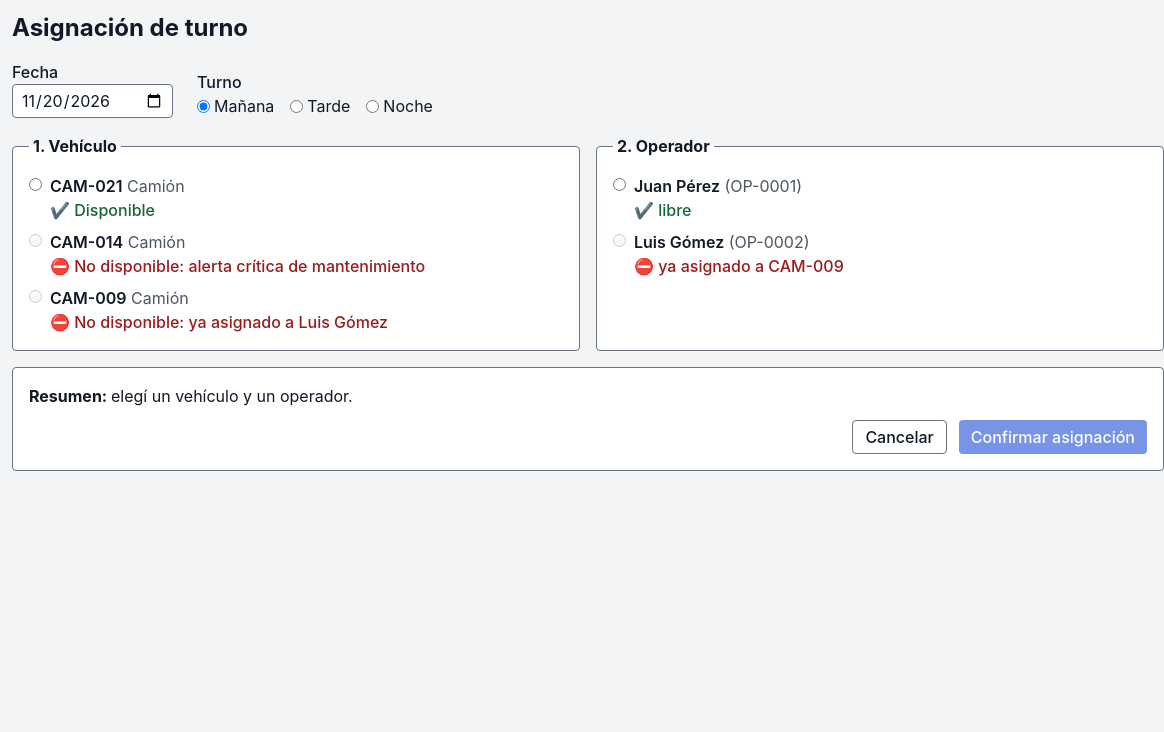
Test: ShiftsPage › con 403 al guardar avisa "Permisos insuficientes"
The image size is (1164, 732).
Click the radio button labelled "CAM-021 Camión✔ Disponible": {"x": 36, "y": 184} [29,178,42,191]
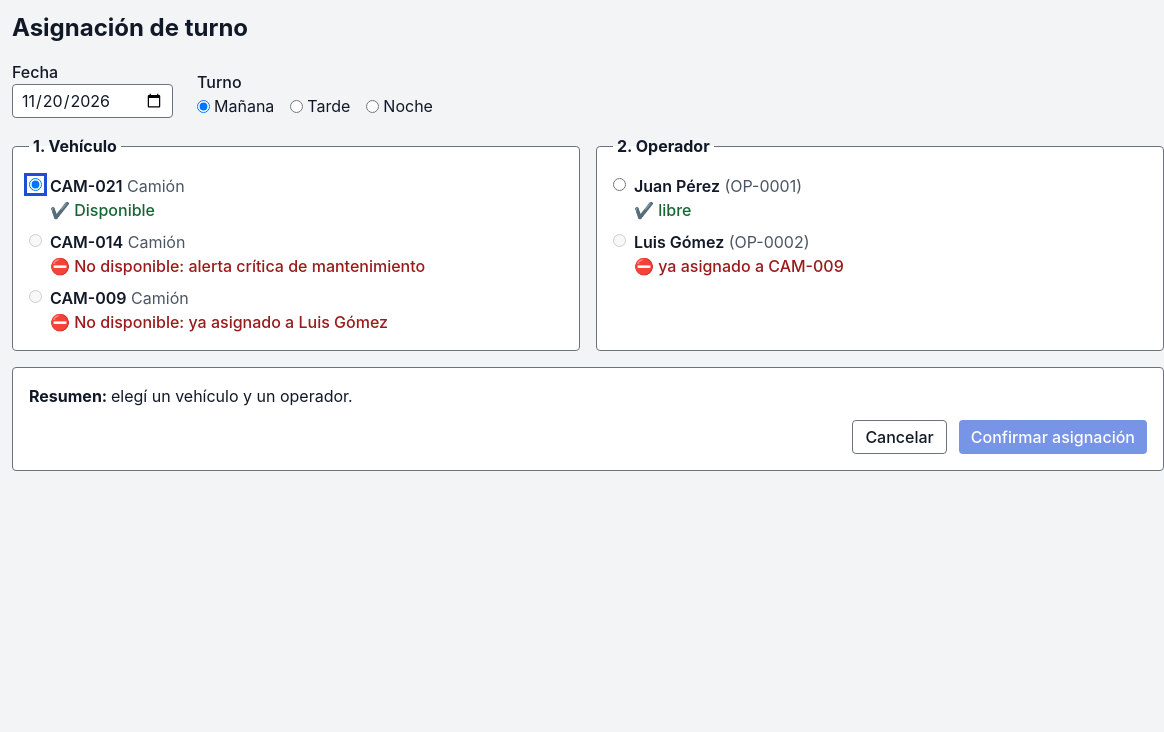
Click the radio button labelled "Juan Pérez (OP-0001)✔ libre": {"x": 620, "y": 184} [613,178,626,191]
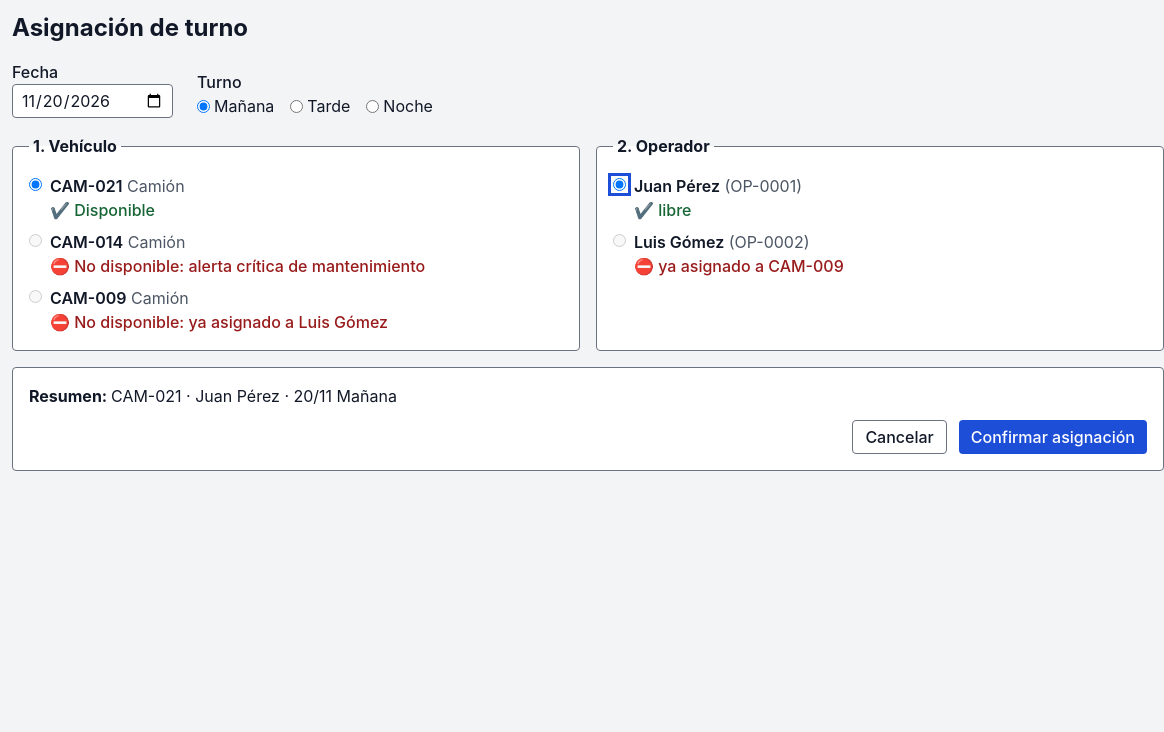
Click the button "Confirmar asignación": {"x": 1053, "y": 437} [959,420,1147,454]
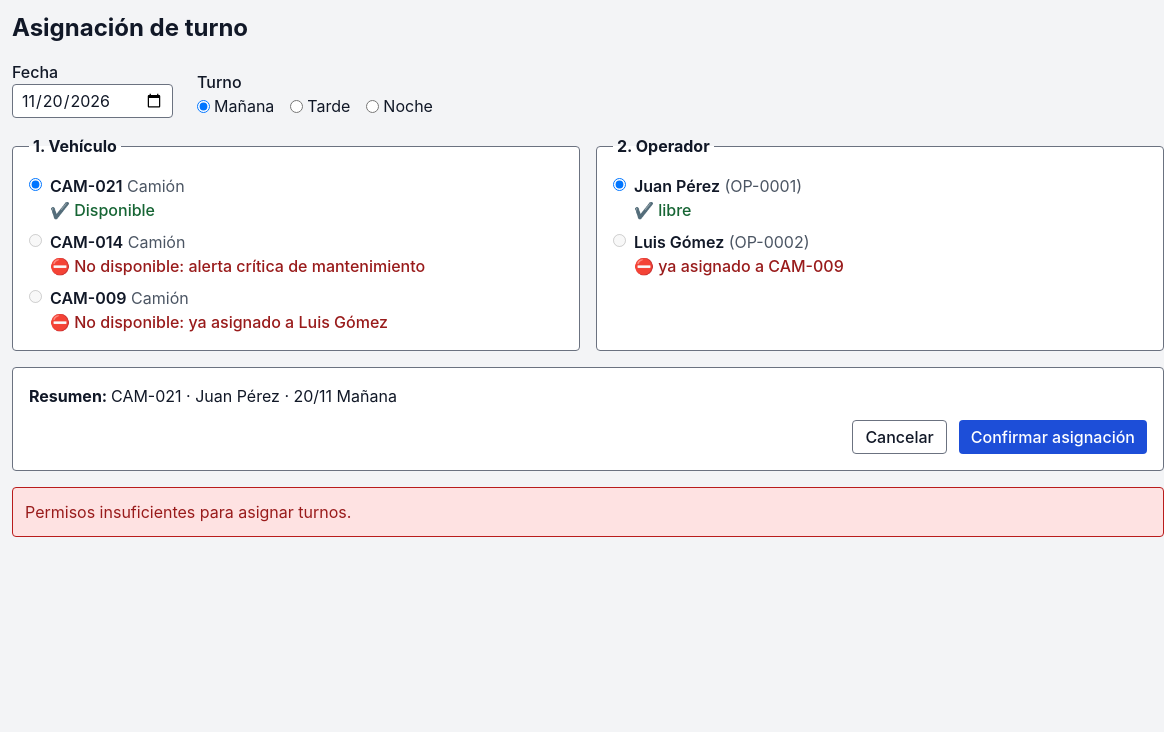
Result: the message reads "Permisos insuficientes para asignar turnos." at [25,502,351,522]
